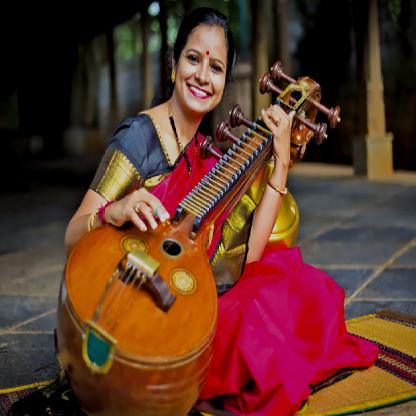Veena: (43, 109, 276, 388)
